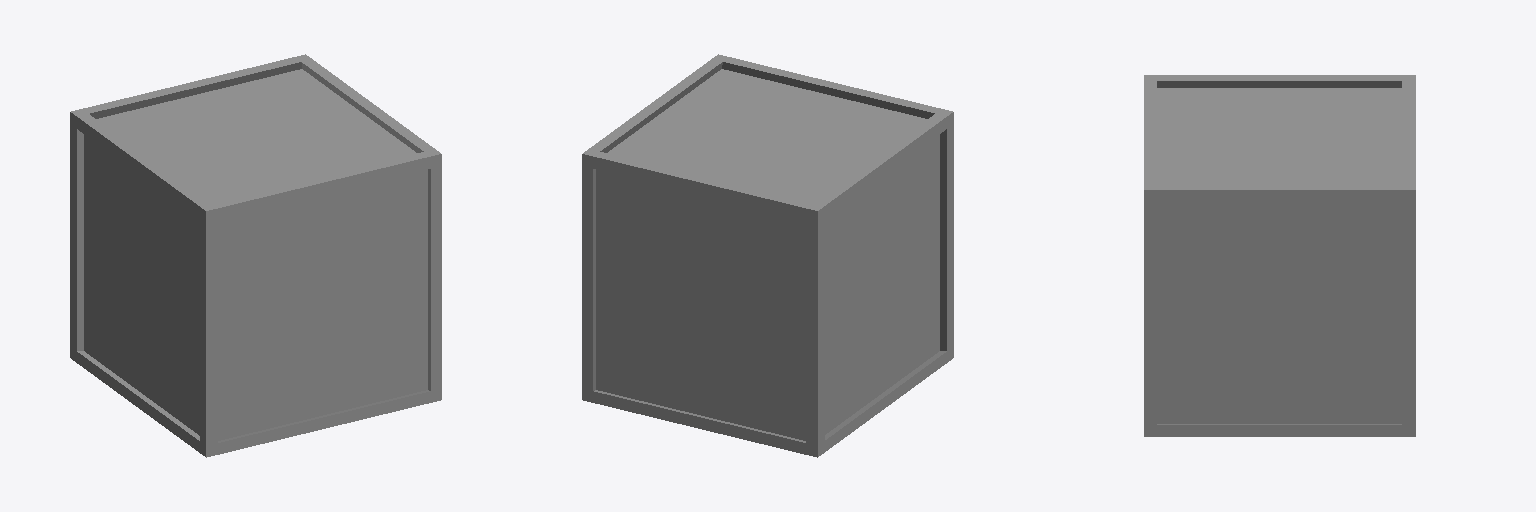
Rendered from crate.obj.
3 views of the same model, side by side, from view 1: azimuth 30°, elevation 25°; view 2: azimuth 150°, elevation 25°; view 3: azimuth 270°, elevation 25° (orthographic).
Parts seen in each view (by area): view 1: Cube; view 2: Cube; view 3: Cube.
Part boxes in pixels (x1,y1,x2,y2): Cube: (70, 54, 441, 457); Cube: (582, 54, 953, 457); Cube: (1144, 75, 1415, 436).
Size of the model in its own units: 2.16 by 2.16 by 2.16.